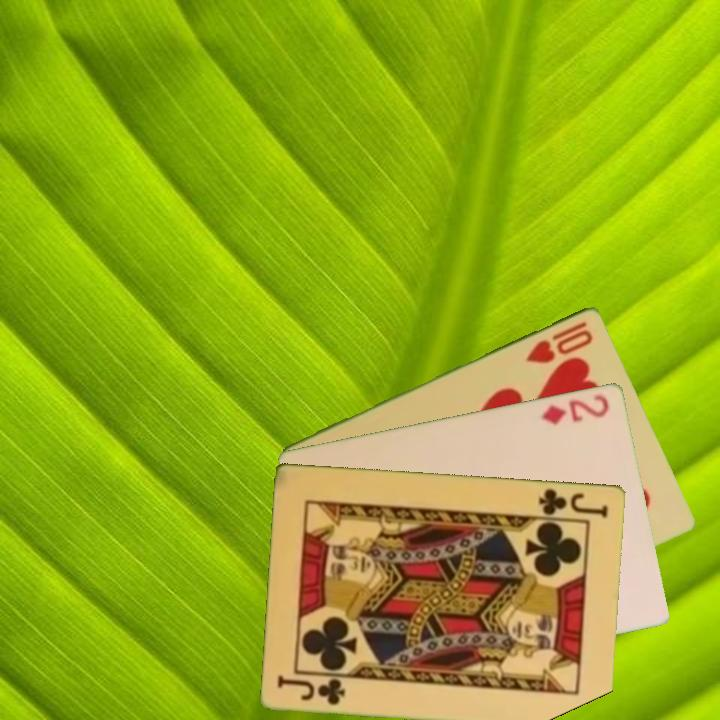10h: (522, 317, 596, 366)
2d: (538, 390, 612, 427)
Jc: (535, 484, 612, 520), (274, 672, 348, 708)
